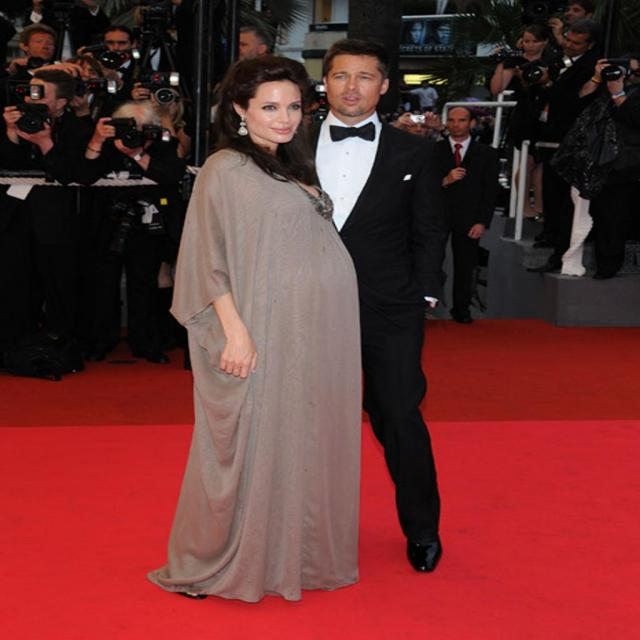nomask: (242, 86, 300, 142), (327, 60, 382, 116), (114, 117, 154, 153), (65, 61, 100, 97), (24, 82, 58, 119), (143, 85, 178, 118), (26, 34, 54, 60), (233, 35, 259, 62), (104, 34, 130, 57), (564, 33, 586, 55), (448, 112, 469, 135), (562, 4, 586, 24), (523, 32, 542, 54), (406, 116, 424, 139), (622, 62, 640, 85), (436, 26, 450, 44), (410, 24, 421, 42), (422, 81, 427, 87)
